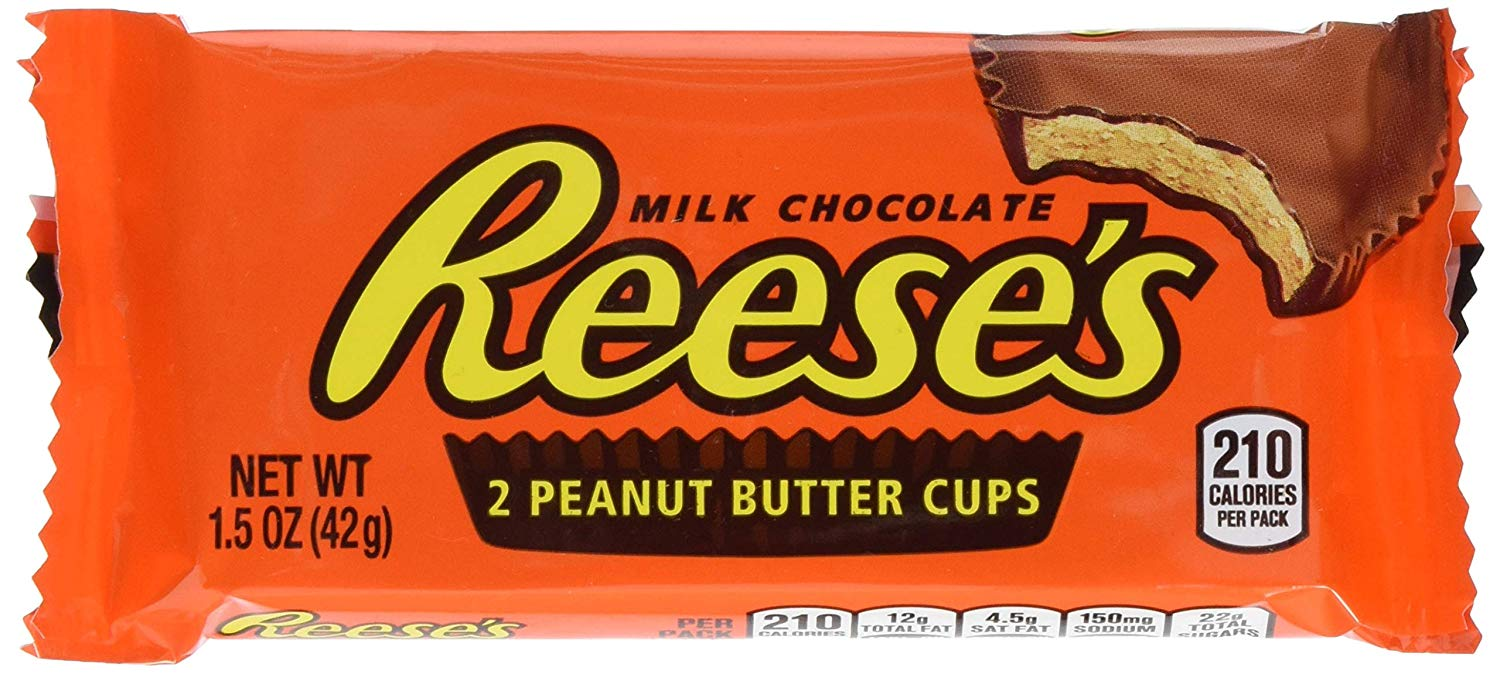reese: (21, 6, 1452, 653)
